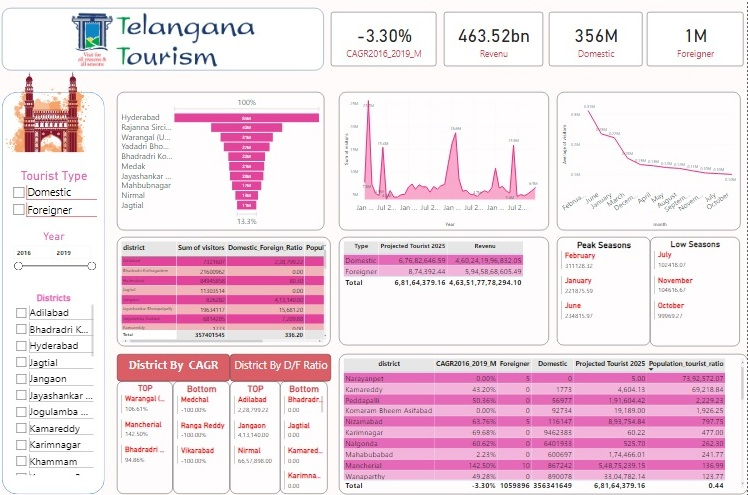

The page's visual inventory and layout, read from the dashboard file:
{"tool":"powerbi","page":{"name":"Telangana Tourism insights","canvas":[2280,1520],"ordinal":0},"visuals":[{"type":"image","box":[22.2,25,975,188.9],"z":0},{"type":"funnel","fields":{"Category":["Combined.district"],"Y":["Sum(Combined.visitors)"]},"box":[369.4,277.8,627.8,419.4],"z":1000},{"type":"pivotTable","fields":{"Rows":["Combined.district"],"Values":["Sum(Combined.visitors)","Key Measures.Domestic_Foreign_Ratio","Key Measures.Population_tourist_ratio"]},"box":[369.4,716.7,647.2,330.6],"z":2000},{"type":"areaChart","fields":{"Category":["Combined.date.Variation.Date Hierarchy.Year","Combined.date.Variation.Date Hierarchy.Quarter","Combined.date.Variation.Date Hierarchy.Month","Combined.date.Variation.Date Hierarchy.Day"],"Y":["Sum(Combined.visitors)"]},"box":[1041.7,277.8,636.1,419.4],"z":3000},{"type":"tableEx","fields":{"Values":["Combined.Type","Key Measures.Projected Tourist 2025","Key Measures.Revenu"]},"box":[1041.7,719.4,636.1,327.8],"z":4000},{"type":"lineChart","fields":{"Category":["Combined.month"],"Y":["Avg(Combined.visitors)"]},"box":[1702.8,277.8,555.6,419.4],"z":5000},{"type":"multiRowCard","title":"Peak Seasons","fields":{"Values":["Combined.month","Avg(Combined.visitors)"]},"box":[1702.8,719.4,283.3,327.8],"z":6000},{"type":"multiRowCard","title":"Low Seasons","fields":{"Values":["Combined.month","Avg(Combined.visitors)"]},"box":[1986.1,716.7,272.2,330.6],"z":7000},{"type":"multiRowCard","title":"TOP","fields":{"Values":["Combined.district","Key Measures.CAGR2016_2019_M"]},"box":[369.4,1155.6,169.4,341.7],"z":8000},{"type":"multiRowCard","title":"Bottom","fields":{"Values":["Combined.district","Key Measures.CAGR2016_2019_M"]},"box":[538.9,1155.6,172.2,341.7],"z":9000},{"type":"multiRowCard","title":"TOP","fields":{"Values":["Combined.district","Key Measures.Domestic_Foreign_Ratio"]},"box":[711.1,1155.6,152.8,341.7],"z":10000},{"type":"multiRowCard","title":"Bottom","fields":{"Values":["Combined.district","Key Measures.Domestic_Foreign_Ratio"]},"box":[863.9,1155.6,144.4,341.7],"z":11000},{"type":"tableEx","fields":{"Values":["Combined.district","Key Measures.CAGR2016_2019_M","Key Measures.Foreigner","Key Measures.Domestic","Key Measures.Projected Tourist 2025","Key Measures.Population_tourist_ratio"]},"box":[1041.7,1072.2,1238.9,425],"z":12000},{"type":"textbox","box":[369.4,1072.2,341.7,83.3],"z":12002},{"type":"textbox","box":[711.1,1072.2,305.6,83.3],"z":12003},{"type":"card","fields":{"Values":["Key Measures.CAGR2016_2019_M"]},"box":[1016.7,36.1,319.4,163.9],"z":12004},{"type":"card","fields":{"Values":["Key Measures.Revenu"]},"box":[1361.1,36.1,300,163.9],"z":12005},{"type":"card","fields":{"Values":["Key Measures.Domestic"]},"box":[1677.8,36.1,283.3,163.9],"z":12006},{"type":"card","fields":{"Values":["Key Measures.Foreigner"]},"box":[1975,36.1,291.7,163.9],"z":12007},{"type":"shape","box":[22.2,277.8,311.1,1219.4],"z":12008},{"type":"image","box":[22.2,200,272.2,275],"z":12009},{"type":"slicer","title":"Tourist Type","fields":{"Values":["Combined.Type"]},"box":[41.7,508.3,272.2,208.3],"z":12010},{"type":"slicer","title":"Year","fields":{"Values":["Combined.year"]},"box":[41.7,697.2,272.2,236.1],"z":12011},{"type":"slicer","title":"Districts","fields":{"Values":["Combined.district"]},"box":[50,883.3,252.8,561.1],"z":12012}]}

Visuals, with their boxes in screenshot pixels (x1, y1, x2, y2), scaled from the page's 2280x1520 canvas onto the 748x495 screenshot:
image: <region>7, 8, 327, 70</region>
funnel - Combined.district x Sum(Combined.visitors): <region>121, 90, 327, 227</region>
pivotTable - Combined.district x Sum(Combined.visitors): <region>121, 233, 334, 341</region>
areaChart - Combined.date.Variation.Date Hierarchy.Year x Combined.date.Variation.Date Hierarchy.Quarter: <region>342, 90, 550, 227</region>
tableEx - Combined.Type x Key Measures.Projected Tourist 2025: <region>342, 234, 550, 341</region>
lineChart - Combined.month x Avg(Combined.visitors): <region>559, 90, 741, 227</region>
"Peak Seasons" multiRowCard: <region>559, 234, 652, 341</region>
"Low Seasons" multiRowCard: <region>652, 233, 741, 341</region>
"TOP" multiRowCard: <region>121, 376, 177, 488</region>
"Bottom" multiRowCard: <region>177, 376, 233, 488</region>
"TOP" multiRowCard: <region>233, 376, 283, 488</region>
"Bottom" multiRowCard: <region>283, 376, 331, 488</region>
tableEx - Combined.district x Key Measures.CAGR2016_2019_M: <region>342, 349, 747, 488</region>
textbox: <region>121, 349, 233, 376</region>
textbox: <region>233, 349, 334, 376</region>
card - Key Measures.CAGR2016_2019_M: <region>334, 12, 438, 65</region>
card - Key Measures.Revenu: <region>447, 12, 545, 65</region>
card - Key Measures.Domestic: <region>550, 12, 643, 65</region>
card - Key Measures.Foreigner: <region>648, 12, 744, 65</region>
shape: <region>7, 90, 109, 488</region>
image: <region>7, 65, 97, 155</region>
"Tourist Type" slicer: <region>14, 166, 103, 233</region>
"Year" slicer: <region>14, 227, 103, 304</region>
"Districts" slicer: <region>16, 288, 99, 470</region>
